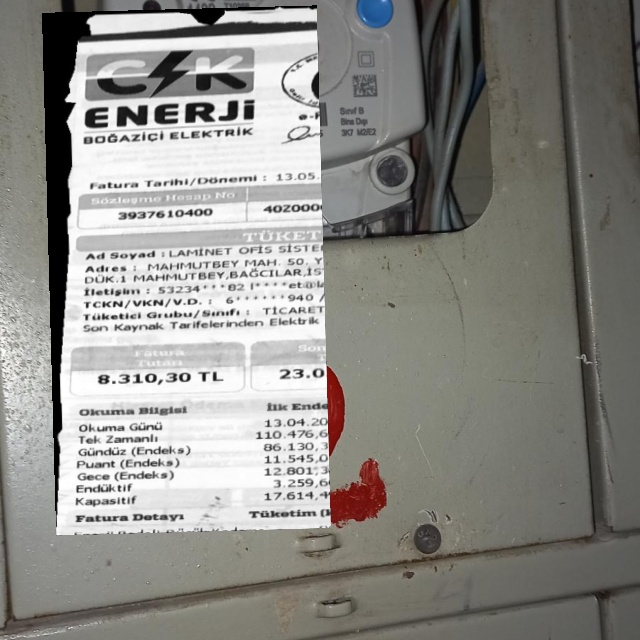electricity-bill: (42, 4, 330, 536)
